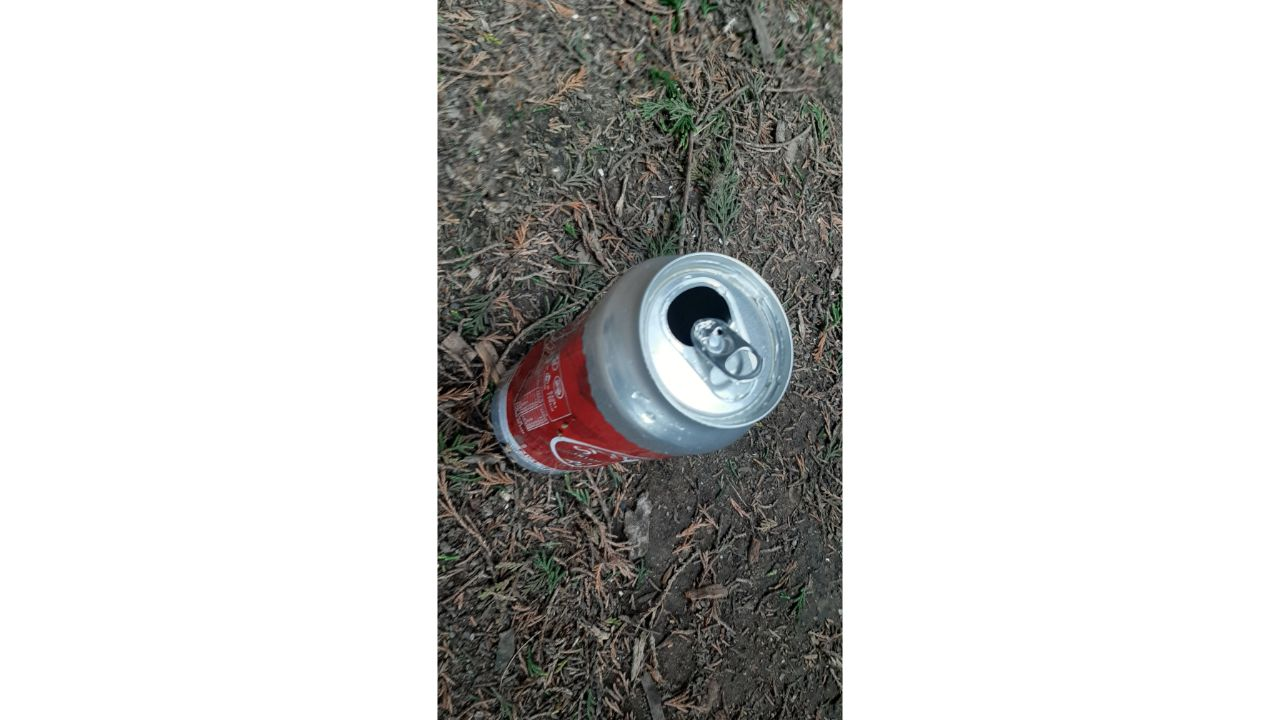Can: (488, 246, 793, 475)
